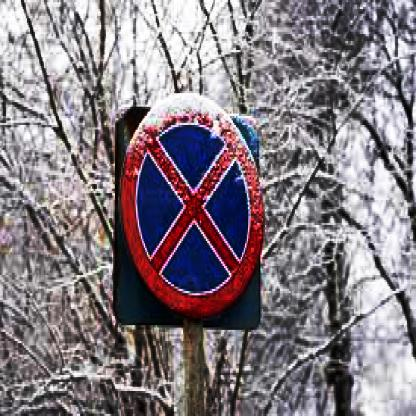No stopping: (121, 89, 265, 329)
